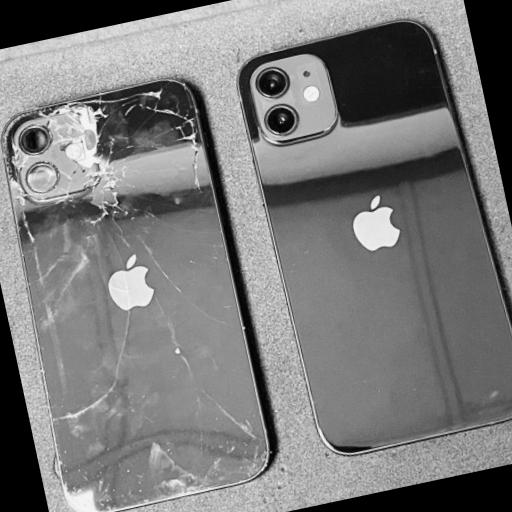phone: (233, 13, 512, 460), (1, 72, 272, 512)
